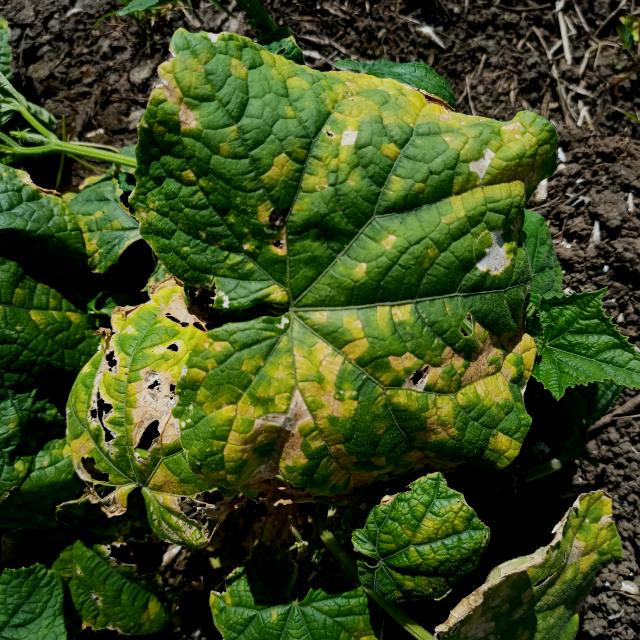disease_cucumber: (88, 26, 545, 501)
